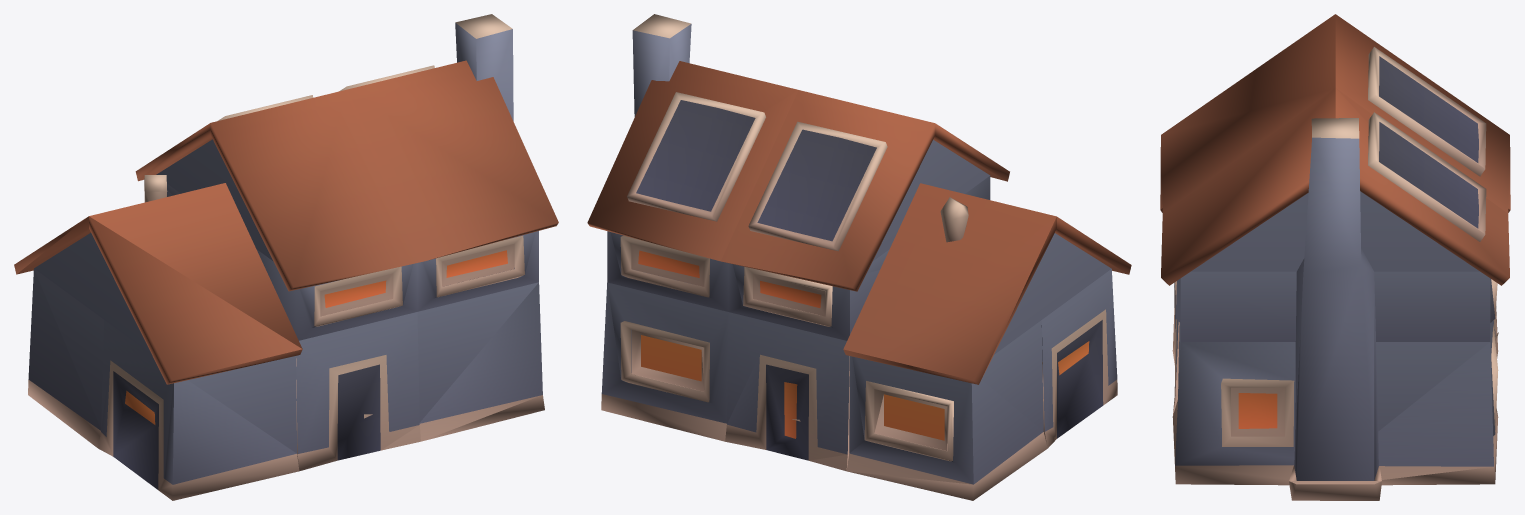
The model's file is casa_j.fbx.
The picture shows the model from 3 angles, left to right: view 1: azimuth 30°, elevation 25°; view 2: azimuth 150°, elevation 25°; view 3: azimuth 270°, elevation 25°; orthographic projection. The views are drawn at different scales.
Visible parts, largest first — view 1: casa_j; view 2: casa_j; view 3: casa_j.
Part boxes in pixels (box(x1,y1,x2,y2)): casa_j: box(14, 14, 558, 500); casa_j: box(587, 14, 1131, 500); casa_j: box(1160, 14, 1510, 500).
Size of the model in its own units: 1.37 by 1.03 by 0.904.
